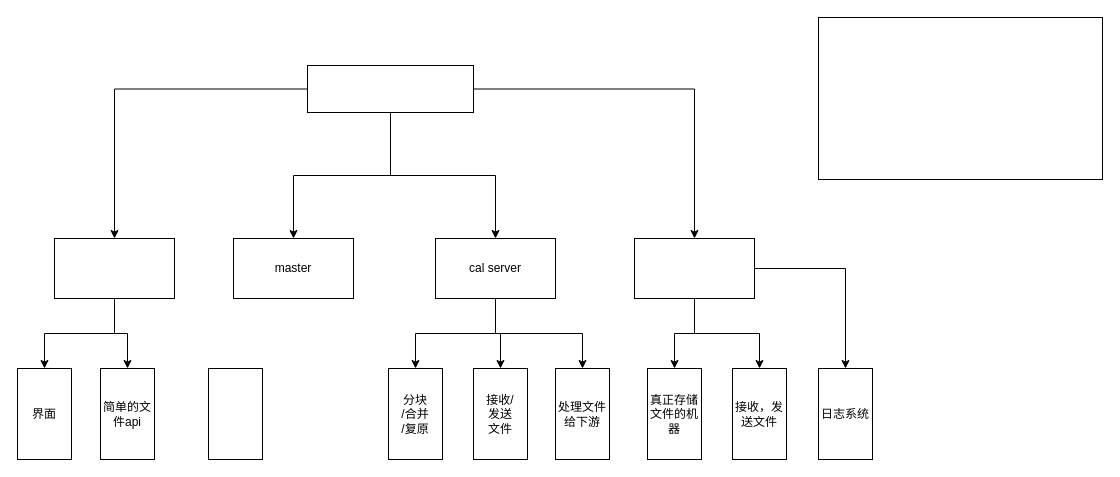
The diagram is 1120 pixels wide and 477 high, and some of its shapes have lost their labels. Each missing label, with the centre of its shape:
client: pixel 114 268
storeserver: pixel 694 268
愿景：公司分布式文件管理系统中间件 功能： 1.运行框可视化 2.多账户 3.可调节分块系统 4.高可靠， 5.高容灾 6.断电重传: pixel 960 98
模块图: pixel 390 88
维护分块: pixel 235 414
